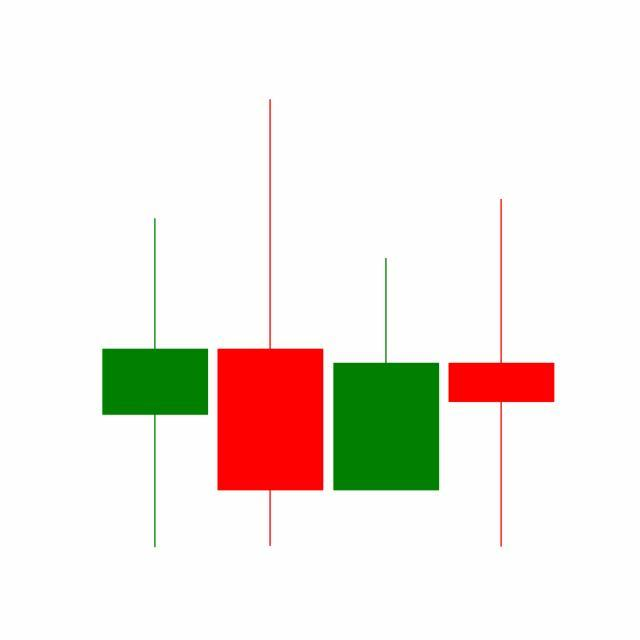Spinning Top: (444, 195, 560, 551)
